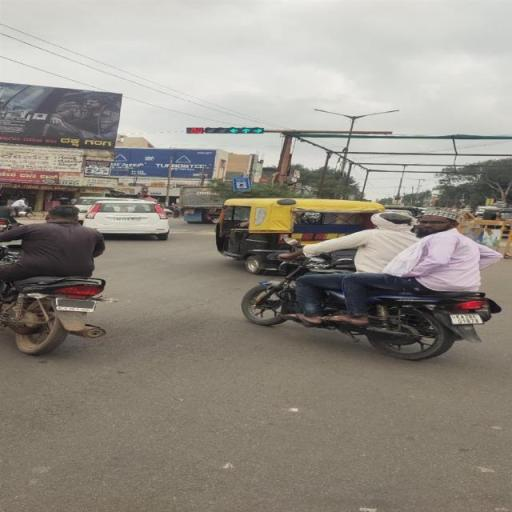bike: (242, 206, 506, 362)
numberplate: (450, 314, 484, 325)
withouthelmet: (371, 210, 412, 230), (416, 215, 456, 234)
